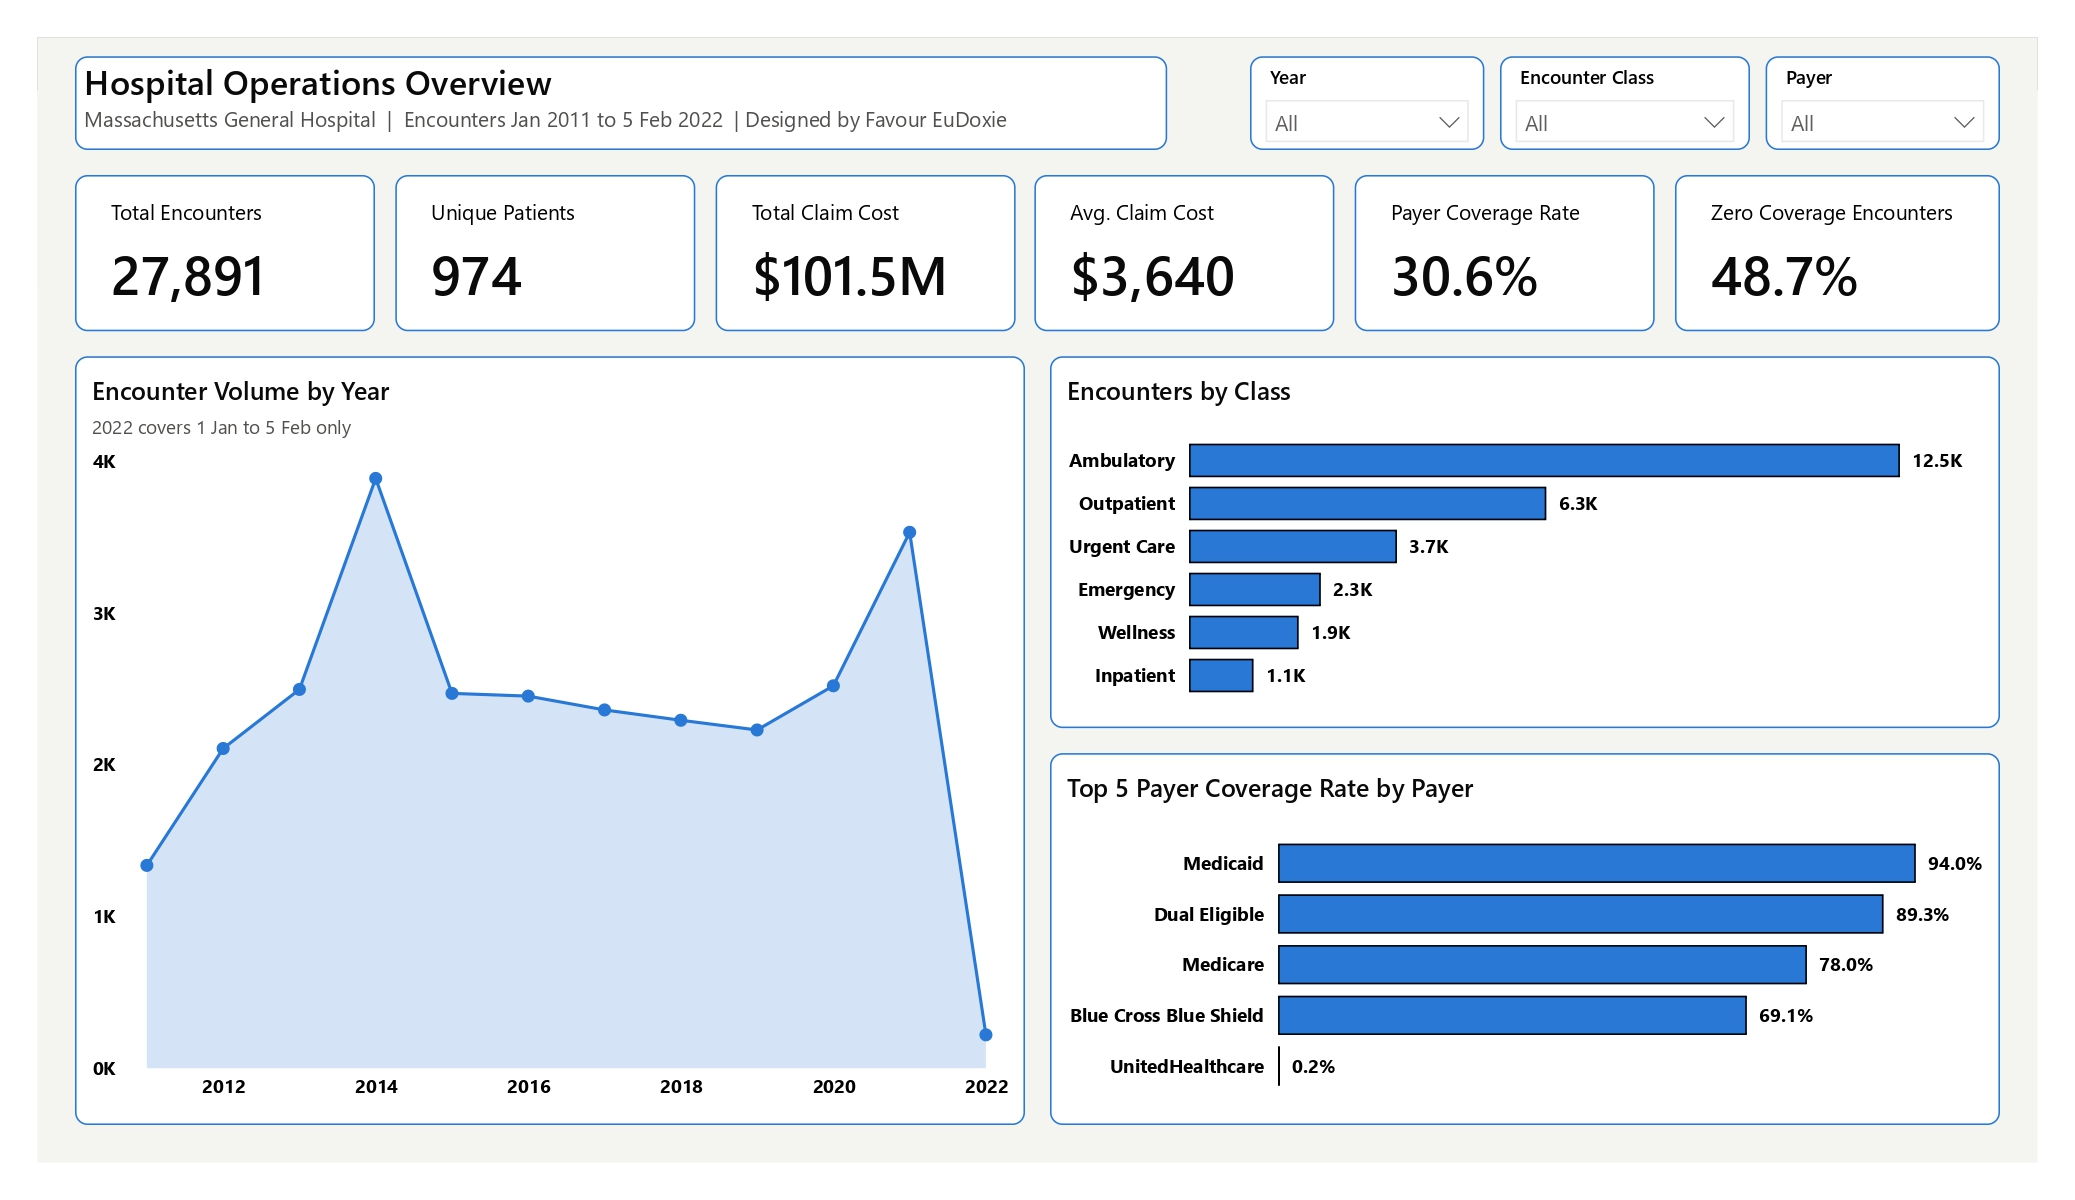

This screenshot's page, from the dashboard's own definition file:
{"tool":"powerbi","page":{"name":"Overview","canvas":[1280,720],"ordinal":0},"visuals":[{"type":"textbox","box":[24,12,699.1,60],"z":1000},{"type":"slicer","fields":{"Values":["Date.Year"]},"box":[776,12,150,60],"z":3000},{"type":"slicer","fields":{"Values":["Encounters.Encounter Class"]},"box":[936,12,160,60],"z":4000},{"type":"slicer","fields":{"Values":["Payers.Payer"]},"box":[1106,12,150,60],"z":5000},{"type":"cardVisual","fields":{"Data":["Encounters.Total Encounters"]},"box":[24,88,192,100],"z":6000},{"type":"cardVisual","fields":{"Data":["Encounters.Unique Patients"]},"box":[228.8,88,192,100],"z":7000},{"type":"cardVisual","fields":{"Data":["Encounters.Total Claim Cost"]},"box":[433.6,88,192,100],"z":8000},{"type":"cardVisual","fields":{"Data":["Encounters.Avg Claim Cost"]},"box":[638.4,88,192,100],"z":9000},{"type":"cardVisual","fields":{"Data":["Encounters.Payer Coverage Rate %"]},"box":[843.2,88,192,100],"z":10000},{"type":"cardVisual","fields":{"Data":["Encounters.Zero Coverage %"]},"box":[1048,88,207.8,100.1],"z":11000},{"type":"lineChart","title":"Encounter Volume by Year","fields":{"Category":["Date.Year"],"Y":["Encounters.Total Encounters"]},"box":[24,204,608,492],"z":12000},{"type":"clusteredBarChart","title":"Encounters by Class","fields":{"Category":["Encounters.Encounter Class"],"Y":["Encounters.Total Encounters"]},"box":[648,204,608,238],"z":13000},{"type":"clusteredBarChart","title":"Top 5 Payer Coverage Rate by Payer","fields":{"Category":["Payers.Payer"],"Y":["Encounters.Payer Coverage Rate %"]},"box":[648,458,608,238],"z":14000}]}

Visuals, with their boxes on the page's 1280x720 design canvas (x1, y1, x2, y2). These are canvas units, not pixel positions in the 2075x1200 screenshot, which may show the page scaled, cropped or inside an application window:
textbox: {"left": 24, "top": 12, "right": 723, "bottom": 72}
slicer - Date.Year: {"left": 776, "top": 12, "right": 926, "bottom": 72}
slicer - Encounters.Encounter Class: {"left": 936, "top": 12, "right": 1096, "bottom": 72}
slicer - Payers.Payer: {"left": 1106, "top": 12, "right": 1256, "bottom": 72}
cardVisual - Encounters.Total Encounters: {"left": 24, "top": 88, "right": 216, "bottom": 188}
cardVisual - Encounters.Unique Patients: {"left": 229, "top": 88, "right": 421, "bottom": 188}
cardVisual - Encounters.Total Claim Cost: {"left": 434, "top": 88, "right": 626, "bottom": 188}
cardVisual - Encounters.Avg Claim Cost: {"left": 638, "top": 88, "right": 830, "bottom": 188}
cardVisual - Encounters.Payer Coverage Rate %: {"left": 843, "top": 88, "right": 1035, "bottom": 188}
cardVisual - Encounters.Zero Coverage %: {"left": 1048, "top": 88, "right": 1256, "bottom": 188}
"Encounter Volume by Year" lineChart: {"left": 24, "top": 204, "right": 632, "bottom": 696}
"Encounters by Class" clusteredBarChart: {"left": 648, "top": 204, "right": 1256, "bottom": 442}
"Top 5 Payer Coverage Rate by Payer" clusteredBarChart: {"left": 648, "top": 458, "right": 1256, "bottom": 696}
